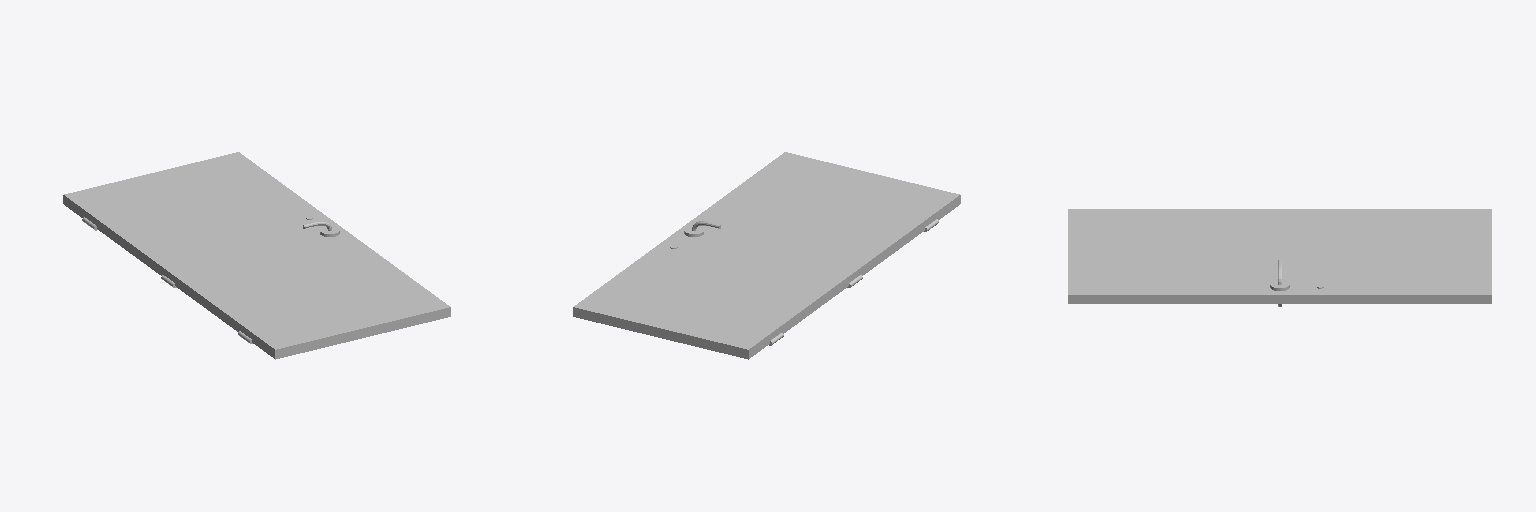
File: vrata.obj
3 renders of one model, left to right at view 1: azimuth 30°, elevation 25°; view 2: azimuth 150°, elevation 25°; view 3: azimuth 270°, elevation 25°, orthographic.
Parts seen in each view (by area): view 1: vrata_Cube; view 2: vrata_Cube; view 3: vrata_Cube.
Part boxes in pixels (left/top/right/bottom): vrata_Cube: left=63, top=152, right=450, bottom=359; vrata_Cube: left=573, top=152, right=960, bottom=359; vrata_Cube: left=1068, top=209, right=1491, bottom=303.
Bounding box in the file's own units: 0.9532 × 0.2001 × 1.97.